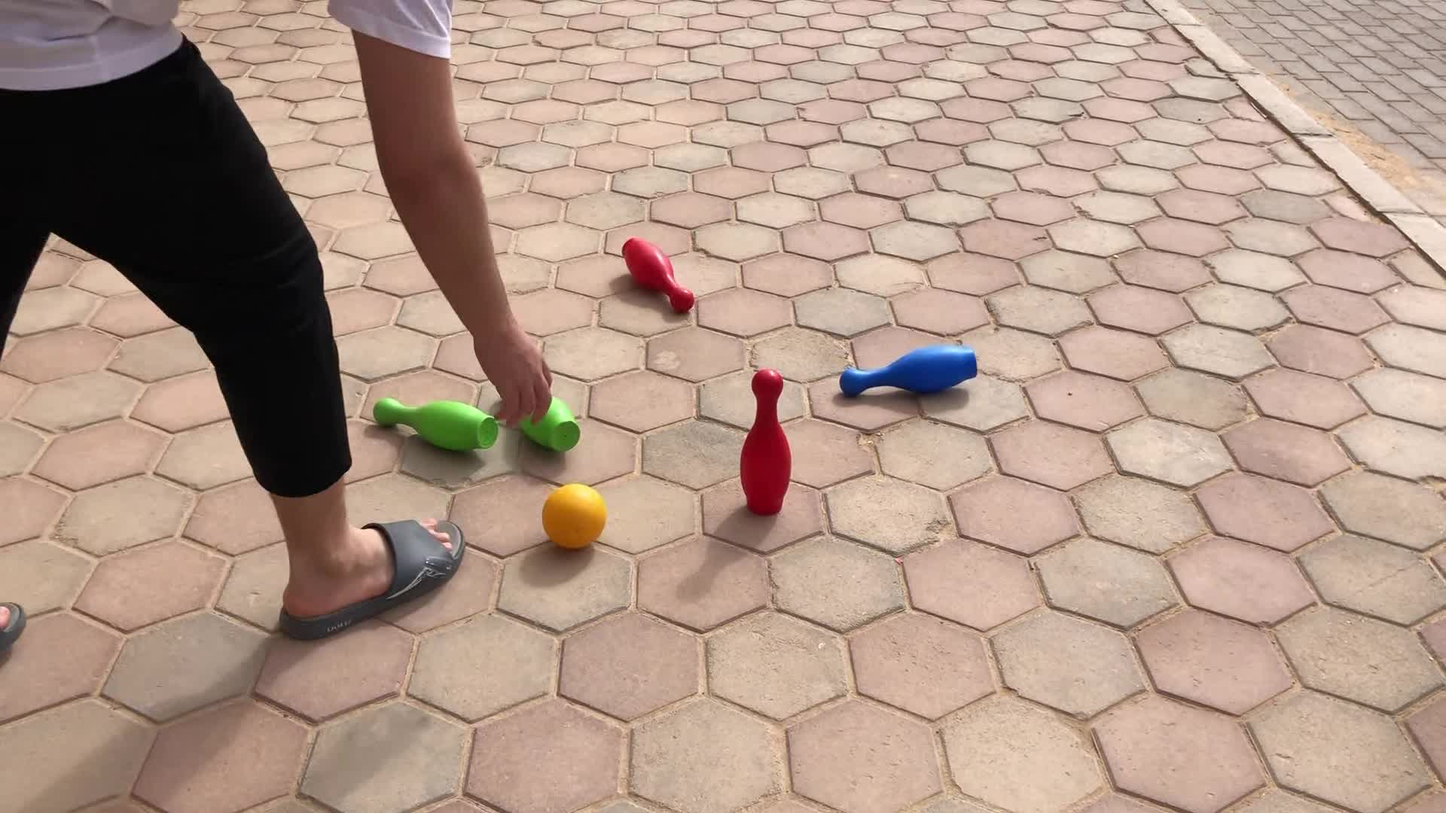bowling-pin: (740, 369, 792, 516), (840, 345, 978, 395), (374, 397, 497, 452), (621, 237, 695, 312)
